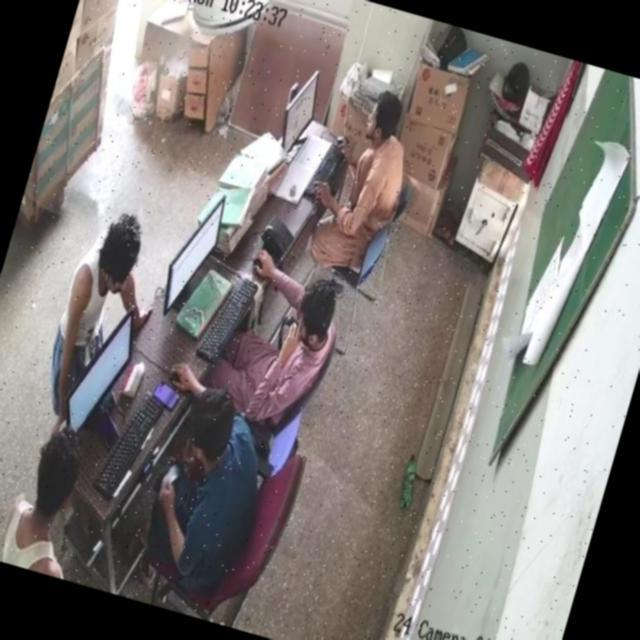person: (145, 389, 281, 591), (39, 198, 148, 396), (230, 262, 349, 432), (8, 435, 110, 582), (331, 93, 416, 242)
